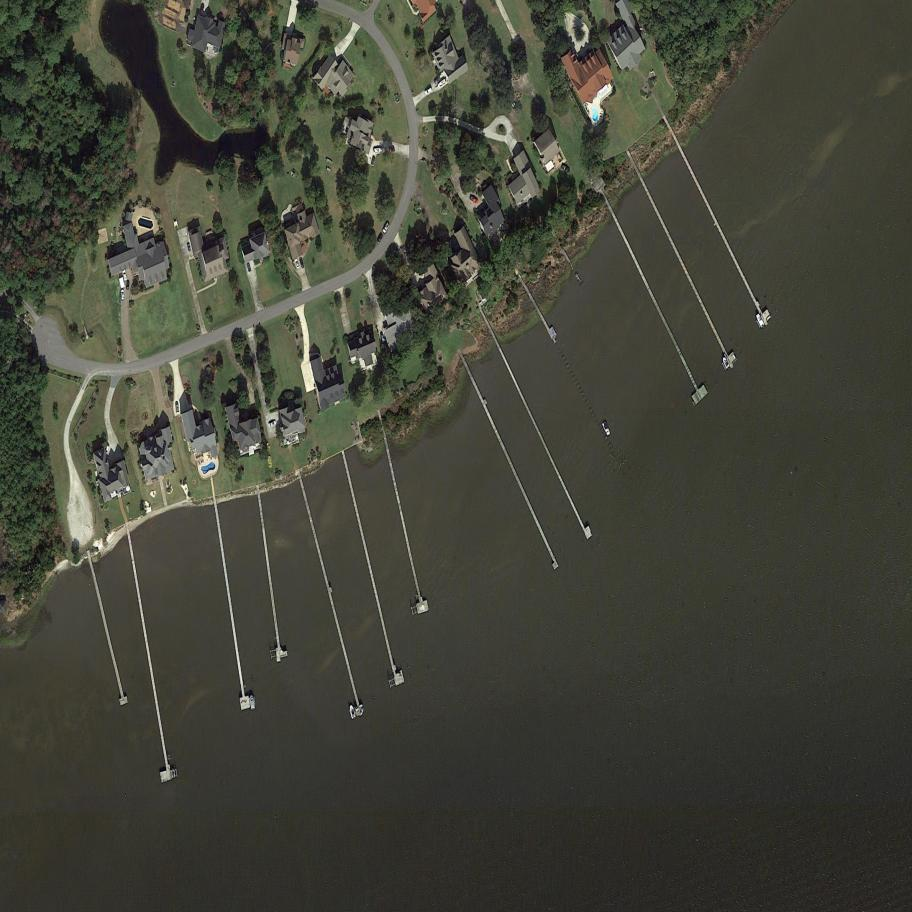ship: (754, 313, 766, 329), (601, 421, 612, 438), (720, 356, 731, 371), (436, 78, 449, 90), (348, 703, 357, 720), (248, 693, 256, 711), (172, 218, 180, 231), (375, 148, 385, 155)
small-vehicle: (469, 194, 480, 204), (382, 222, 391, 234), (560, 164, 571, 173), (376, 233, 385, 244), (424, 87, 434, 96), (299, 256, 305, 269), (433, 77, 442, 85), (199, 4, 205, 15), (294, 258, 300, 269), (122, 269, 127, 282), (120, 289, 125, 302), (246, 262, 251, 272), (371, 156, 376, 166), (388, 147, 395, 154), (175, 403, 179, 414), (126, 280, 130, 290), (187, 242, 191, 251)
